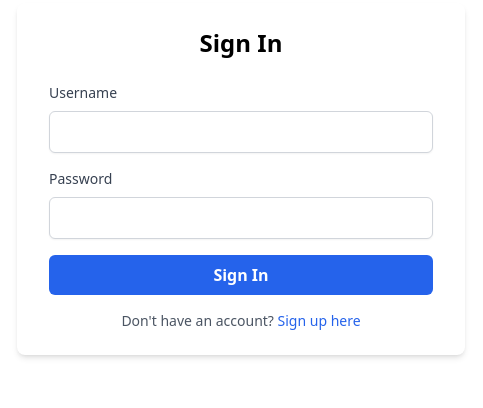
Test: Signin Component › shows error when fields are empty
This screenshot has width=483, height=408.
Note: Submit empty form
Click the button "Sign In" at (241, 275), box left=49, top=255, right=433, bottom=295
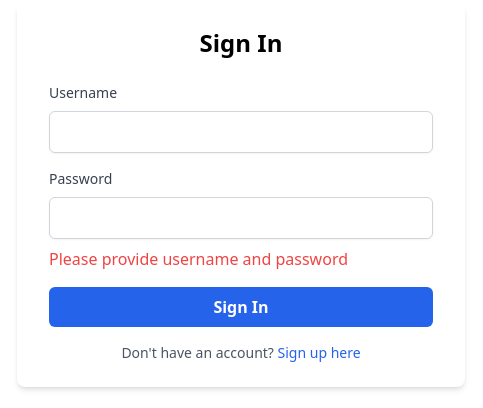
expect the text "Please provide username and password" is shown: met, box left=49, top=248, right=348, bottom=270
